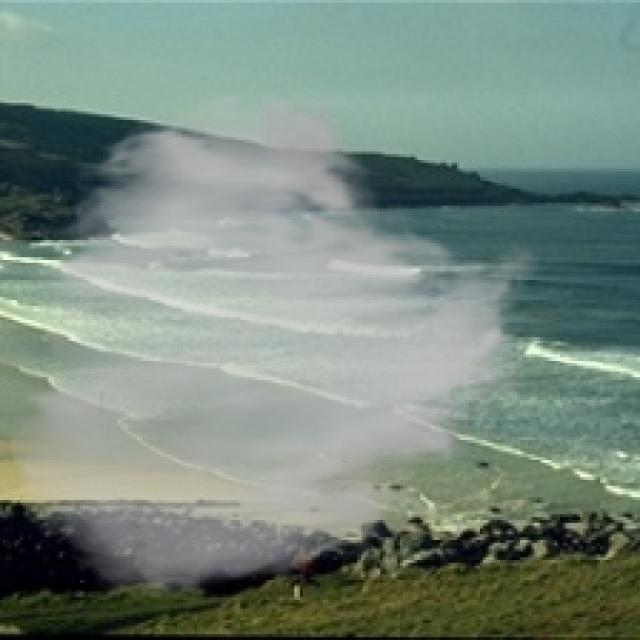smoke: (6, 88, 543, 603)
